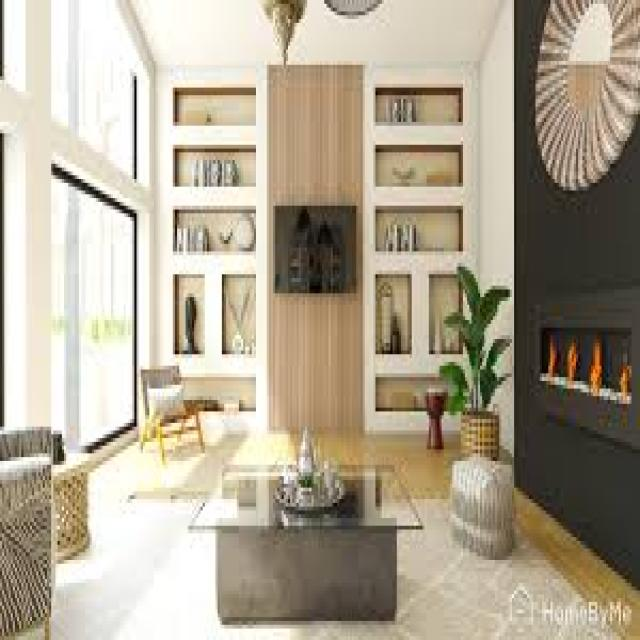Chair: (141, 353, 201, 469)
Table: (197, 452, 422, 609)
